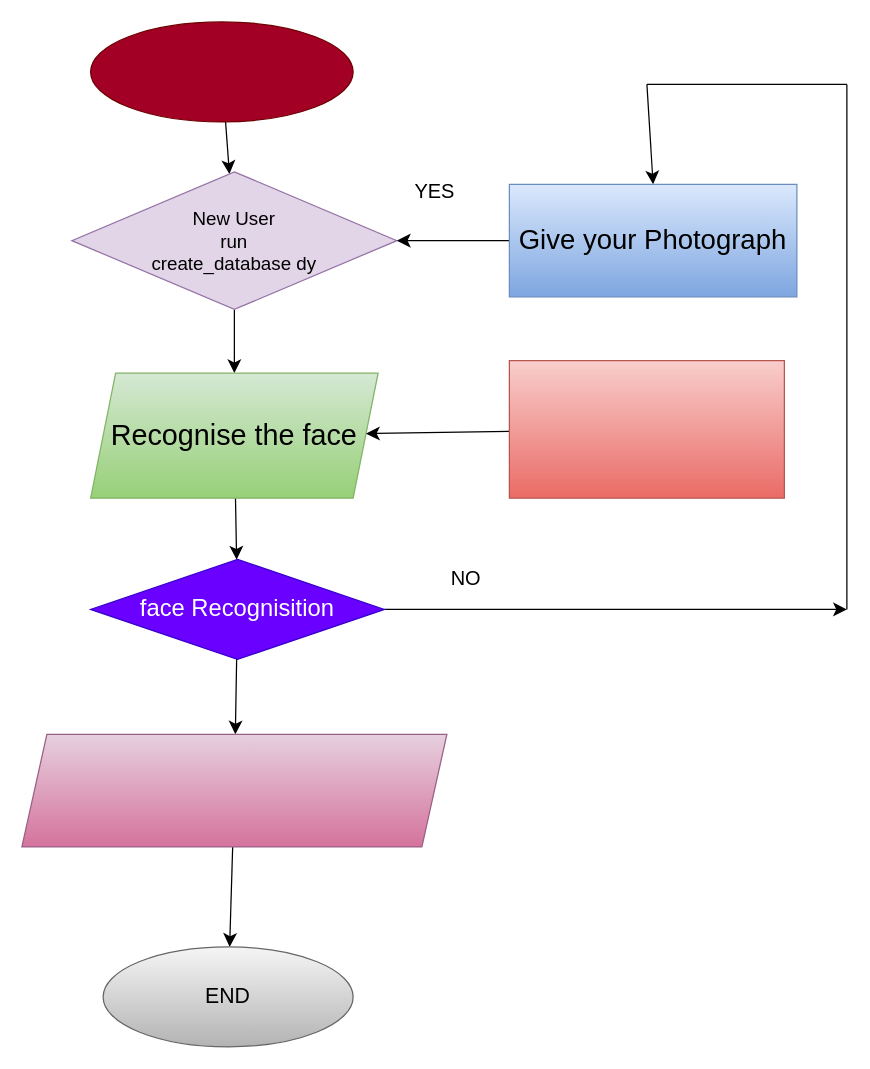
This 870x1069 diagram has some shape labels left out. Here are the shapes that lost their labels. From the top down, the centre of each, then its label:
At point (221, 71): "Start".
At point (646, 428): "Store the face data in folder on your name".
At point (234, 790): "Stored in CSv file with registration Number & Data Time of Entry".
